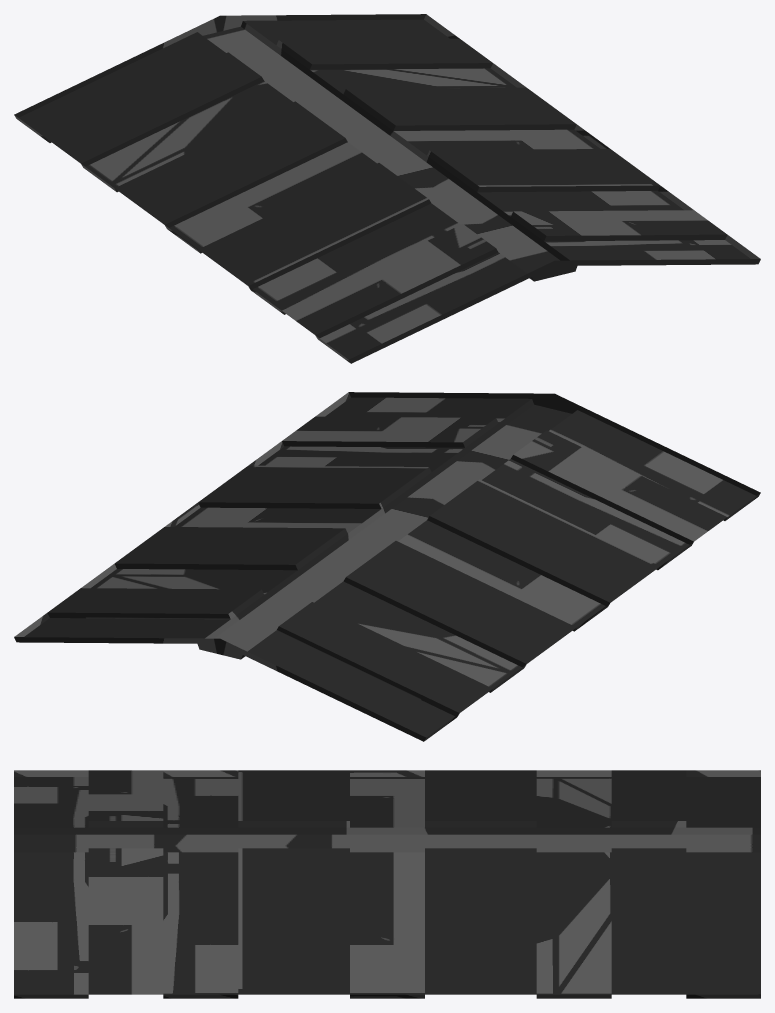
Rendered from BaseMain2.fbx.
3 renders of one model, top to bottom at view 1: azimuth 30°, elevation 25°; view 2: azimuth 150°, elevation 25°; view 3: azimuth 270°, elevation 25°, orthographic. The views are drawn at different scales.
Visible parts, largest first — view 1: КрышаБазы; view 2: КрышаБазы; view 3: КрышаБазы.
Boxes of the visible parts, x1,y1,x2,y2 form: КрышаБазы: (14,14,760,363); КрышаБазы: (14,392,760,741); КрышаБазы: (14,770,760,998).
Size of the model in its own units: 42.06 by 5.22 by 59.12.
